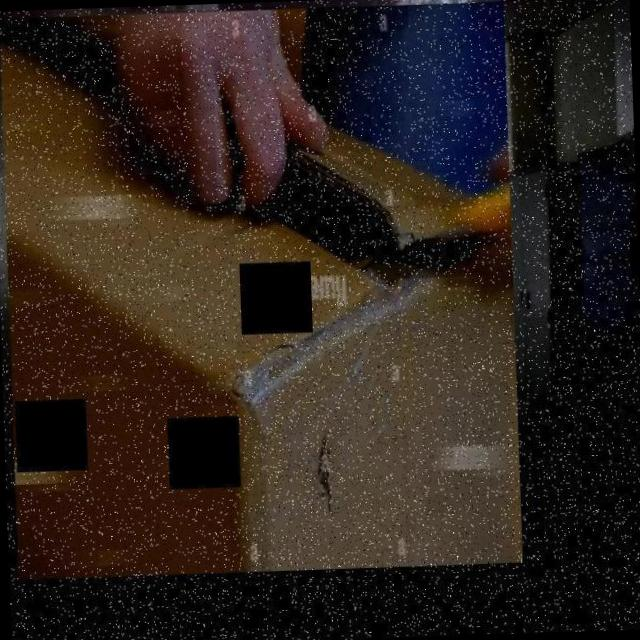box: (0, 0, 531, 590)
